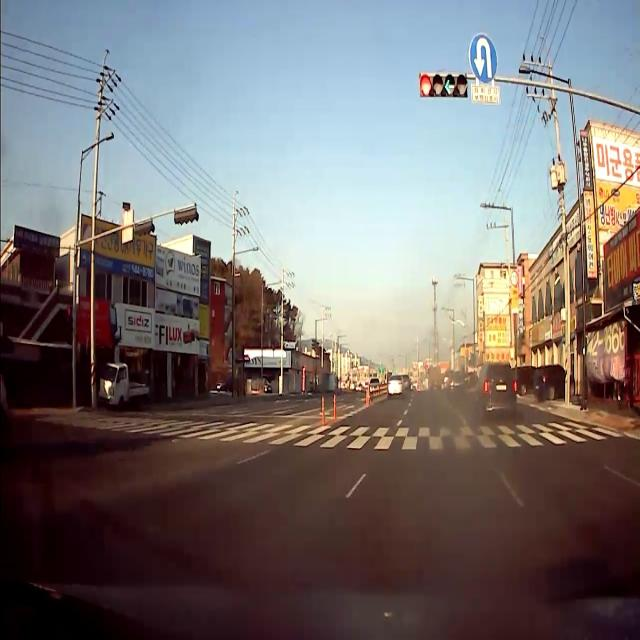Red Light: (419, 74, 432, 96)
